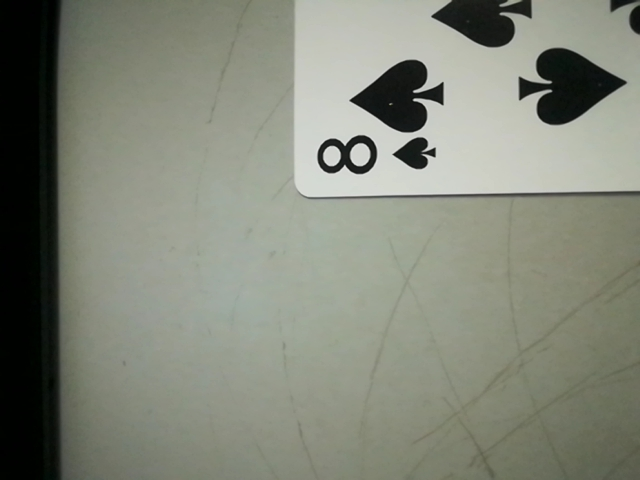ht 8: (301, 117, 443, 193)
